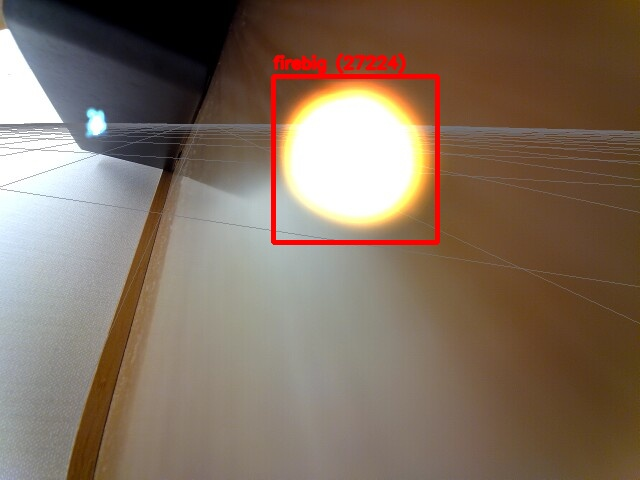firebig: (273, 76, 437, 242)
